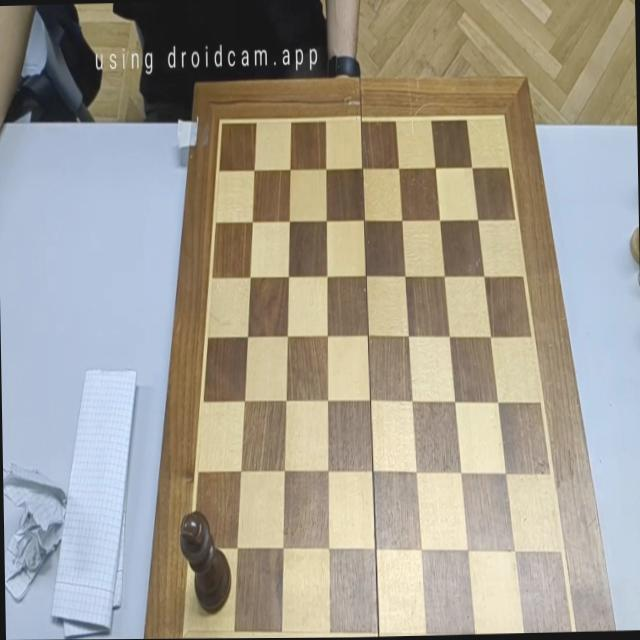black_king: (178, 510, 232, 614)
